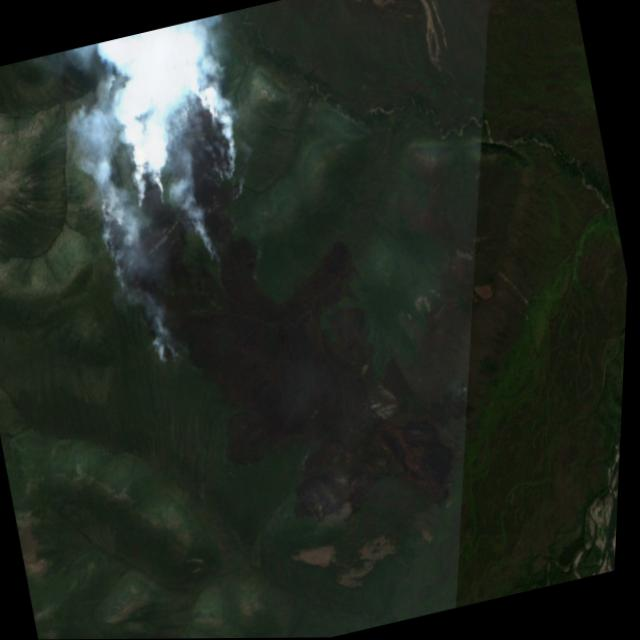fire: (67, 73, 292, 376)
